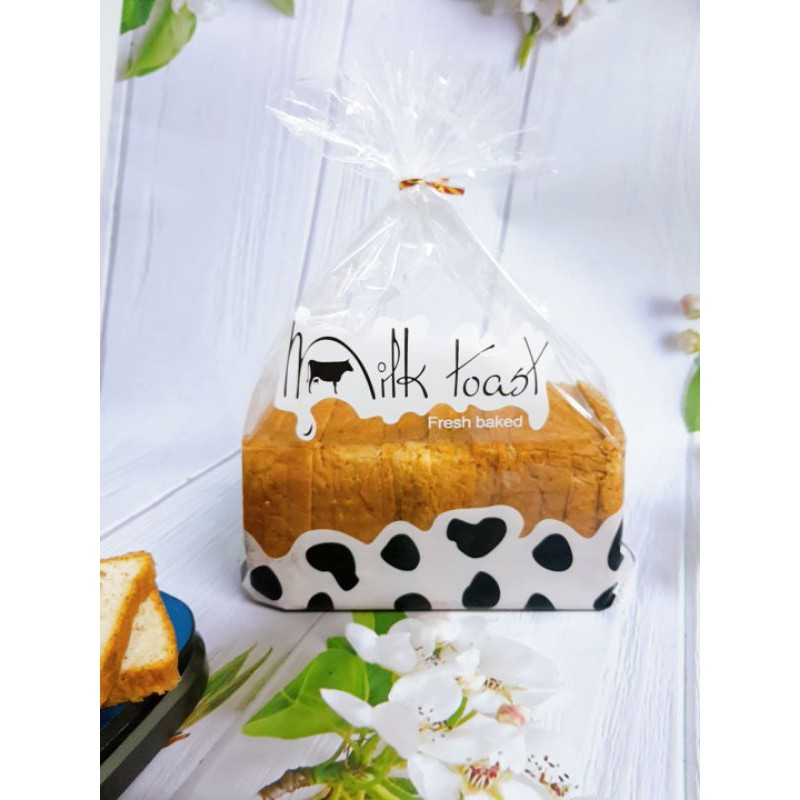Snack: (211, 49, 647, 623)
